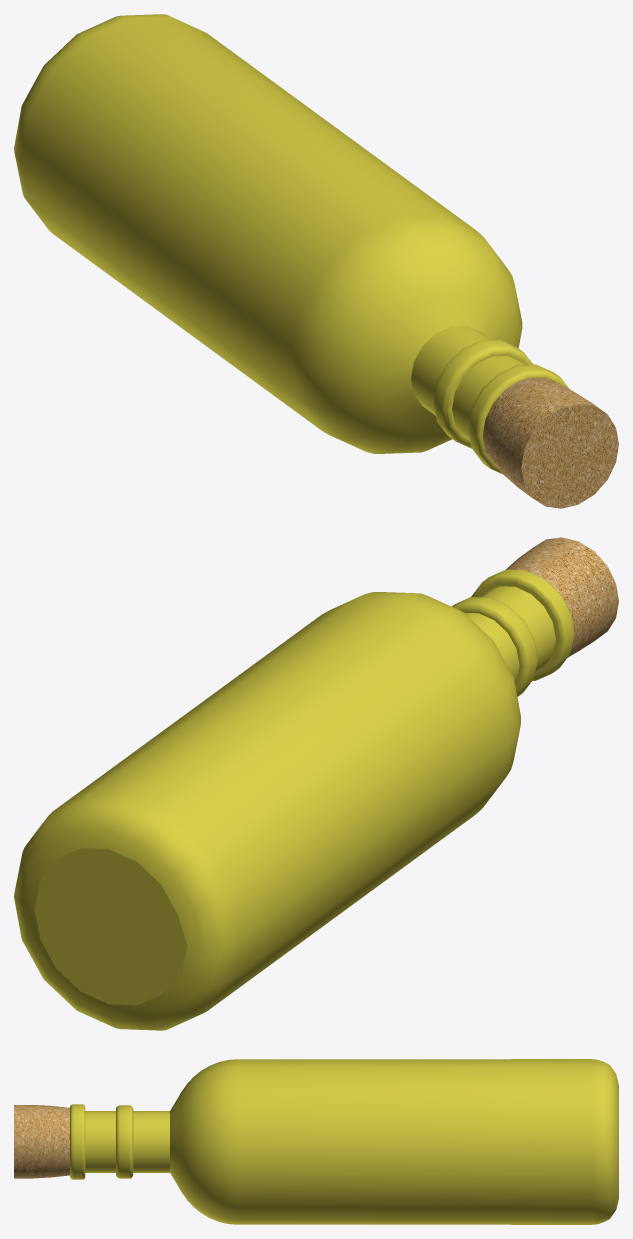
The model's file is Botella vino blanco.fbx.
3 renders of one model, top to bottom at view 1: azimuth 30°, elevation 25°; view 2: azimuth 150°, elevation 25°; view 3: azimuth 270°, elevation 25°, orthographic. The views are drawn at different scales.
Parts seen in each view (by area): view 1: Botella_mesa_009, Object001; view 2: Botella_mesa_009, Object001; view 3: Botella_mesa_009, Object001.
Part boxes in pixels (left/top/right/bottom): Botella_mesa_009: left=14, top=14, right=569, bottom=474; Object001: left=482, top=377, right=618, bottom=508; Botella_mesa_009: left=14, top=569, right=574, bottom=1030; Object001: left=506, top=537, right=618, bottom=657; Botella_mesa_009: left=70, top=1059, right=618, bottom=1224; Object001: left=14, top=1105, right=69, bottom=1178.
Size of the model in its own units: 4.34 by 4.34 by 15.85.
